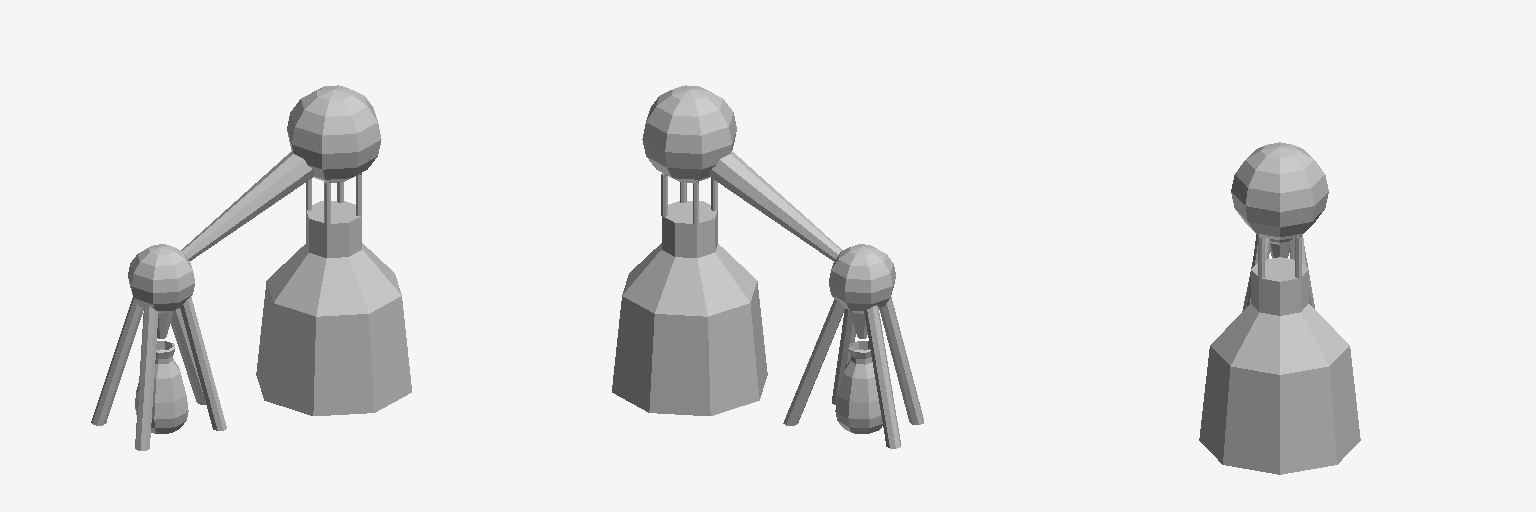
File: alchemy_alchemy_set.obj
The picture shows the model from 3 angles: view 1: azimuth 30°, elevation 25°; view 2: azimuth 150°, elevation 25°; view 3: azimuth 270°, elevation 25°; orthographic projection.
Visible parts, largest first — view 1: Cube; view 2: Cube; view 3: Cube.
Part boxes in pixels (left/top/right/bottom): Cube: left=91, top=85, right=411, bottom=450; Cube: left=612, top=85, right=923, bottom=448; Cube: left=1199, top=142, right=1360, bottom=474.
Size of the model in its own units: 0.7001 by 0.6645 by 0.3305.